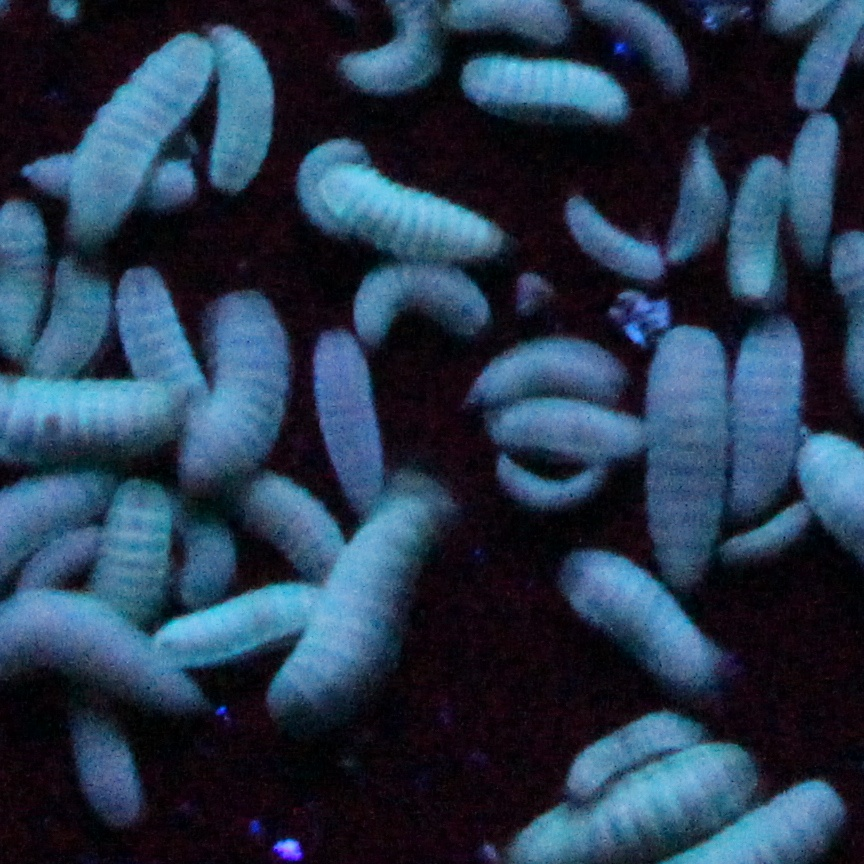larve: (270, 473, 450, 744), (548, 542, 735, 704), (71, 29, 221, 224), (646, 320, 728, 586), (184, 287, 290, 478), (332, 166, 519, 264), (722, 315, 806, 509), (311, 333, 401, 511), (230, 462, 350, 584), (459, 47, 642, 126), (164, 582, 332, 664), (115, 273, 206, 404), (470, 335, 635, 404), (208, 15, 271, 193), (73, 695, 153, 826), (559, 198, 677, 282), (350, 266, 493, 333), (35, 247, 111, 373), (101, 482, 166, 616), (24, 153, 199, 202), (484, 451, 615, 516), (488, 406, 641, 460), (786, 109, 841, 258), (664, 133, 728, 256), (728, 160, 784, 296), (297, 140, 361, 235), (719, 500, 810, 564)
